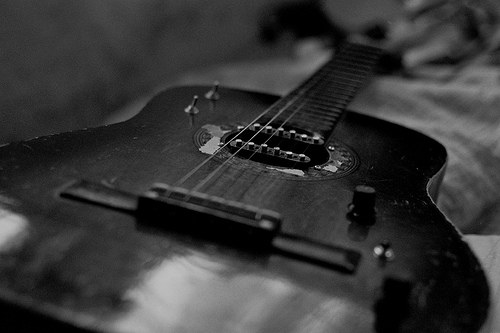guitar: (1, 39, 492, 333)
